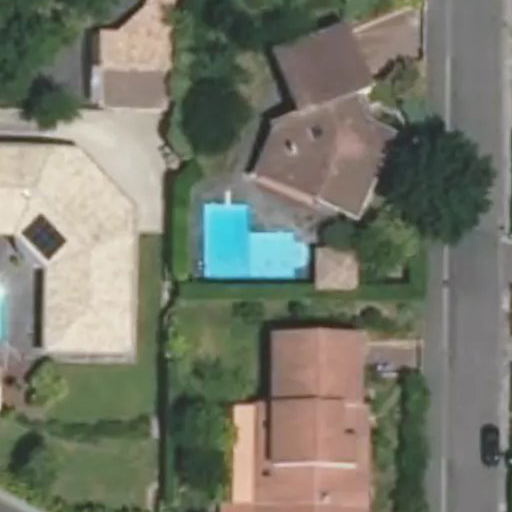pool: (202, 204, 309, 279)
